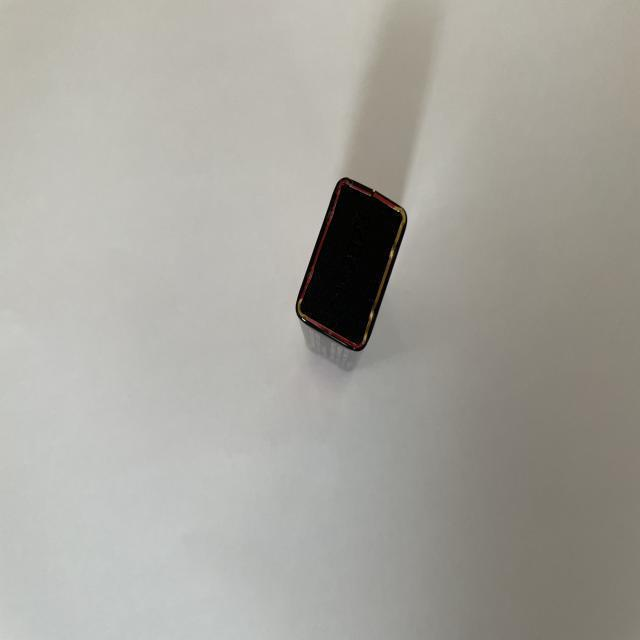9V: (293, 177, 410, 375)
